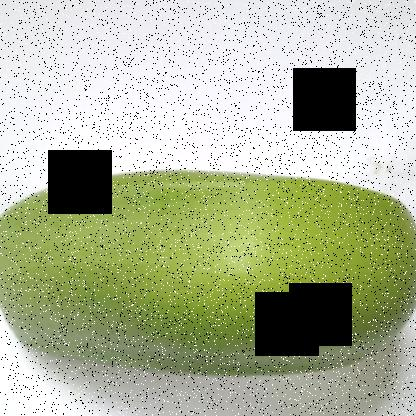freshunripe: (0, 151, 415, 394)
